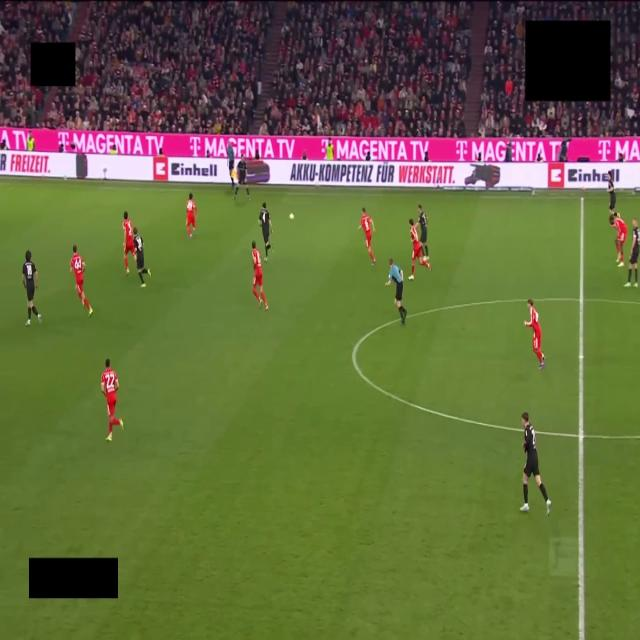ball: (289, 213, 294, 219)
player: (520, 412, 551, 515), (101, 359, 123, 440), (70, 245, 92, 317), (524, 299, 545, 369), (22, 251, 41, 326), (409, 219, 429, 279), (252, 241, 268, 310), (134, 228, 151, 287), (609, 213, 627, 267), (625, 219, 639, 287), (359, 208, 375, 264), (418, 205, 431, 269), (259, 202, 272, 261), (234, 156, 250, 199), (123, 212, 134, 273), (186, 192, 197, 239), (608, 170, 615, 214)
referee: (386, 258, 407, 324)
